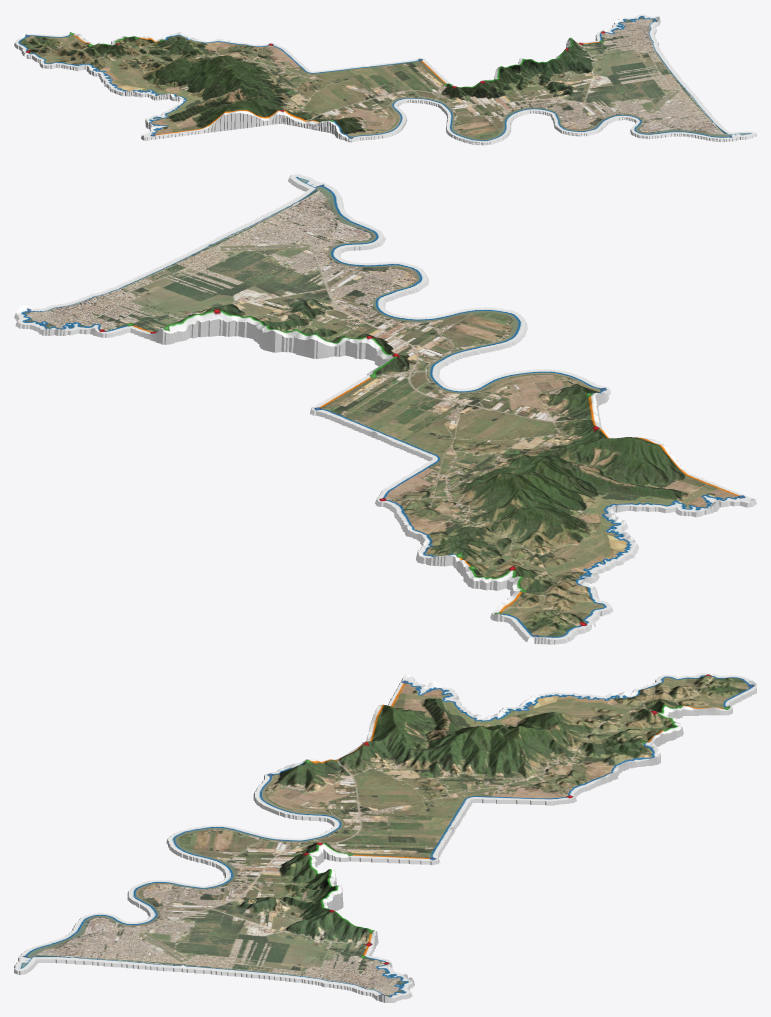
Rendered from navegantes.glb.
3 views of the same model, one above another, from view 1: azimuth 30°, elevation 25°; view 2: azimuth 150°, elevation 25°; view 3: azimuth 270°, elevation 25° (orthographic). The views are drawn at different scales.
Bounding box in the file's own units: 1 × 0.0424 × 0.9635.
1 material, 1 textured.
